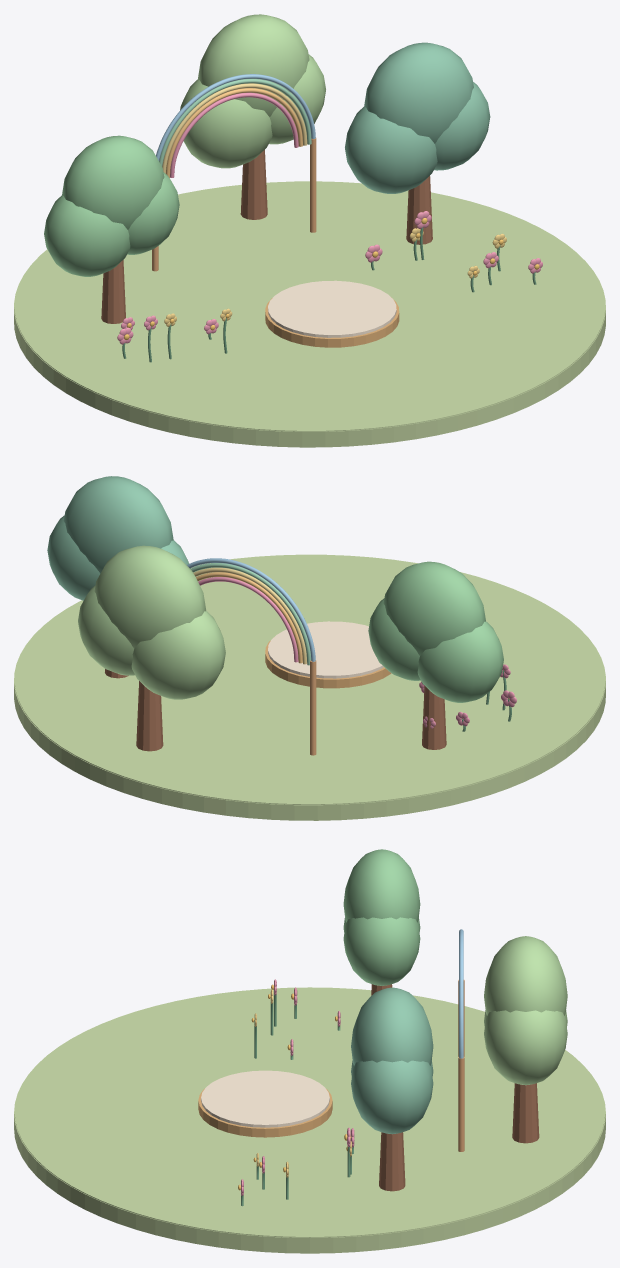
The model's file is jardim.glb.
3 renders of one model, top to bottom at view 1: azimuth 30°, elevation 25°; view 2: azimuth 150°, elevation 25°; view 3: azimuth 270°, elevation 25°, orthographic.
Parts seen in each view (by area): view 1: Diorama piping.001, Diorama base.001, Leafy canopy.005, Leafy canopy.002, Leafy canopy.008, Look pedestal.001, Leafy canopy.003, Leafy canopy, Leafy canopy.006, Leafy canopy.004, Leafy canopy.001, Leafy canopy.007 (+10 smaller); view 2: Diorama piping.001, Diorama base.001, Leafy canopy.008, Leafy canopy.005, Leafy canopy.002, Leafy canopy.006, Leafy canopy, Look pedestal.001, Leafy canopy.007, Leafy canopy.004, Leafy canopy.001, Tree trunk.002 (+8 smaller); view 3: Diorama piping.001, Diorama base.001, Look pedestal.001, Leafy canopy.008, Leafy canopy.007, Leafy canopy.005, Leafy canopy.004, Leafy canopy.002, Leafy canopy.001, Look pedestal trim.001, Tree trunk.002, Tree trunk.001 (+2 smaller).
Boxes of the visible parts, x1,y1,x2,y2 form: Diorama piping.001: [14, 181, 605, 431]; Diorama base.001: [14, 268, 605, 447]; Leafy canopy.005: [364, 42, 473, 143]; Leafy canopy.002: [62, 135, 164, 229]; Leafy canopy.008: [198, 14, 309, 117]; Look pedestal.001: [268, 280, 396, 337]; Leafy canopy.003: [345, 106, 437, 193]; Leafy canopy: [44, 195, 130, 276]; Leafy canopy.006: [180, 79, 272, 168]; Leafy canopy.004: [434, 82, 490, 170]; Leafy canopy.001: [127, 172, 179, 254]; Leafy canopy.007: [269, 54, 325, 144]; Diorama piping.001: [14, 554, 605, 804]; Diorama base.001: [14, 635, 605, 820]; Leafy canopy.008: [94, 545, 205, 648]; Leafy canopy.005: [63, 476, 173, 573]; Leafy canopy.002: [383, 561, 485, 655]; Leafy canopy.006: [131, 610, 225, 699]; Leafy canopy: [417, 621, 503, 702]; Look pedestal.001: [268, 621, 383, 678]; Leafy canopy.007: [78, 585, 134, 675]; Leafy canopy.004: [47, 515, 100, 600]; Leafy canopy.001: [368, 598, 420, 680]; Tree trunk.002: [136, 681, 163, 751]; Diorama piping.001: [14, 987, 605, 1237]; Diorama base.001: [14, 1067, 605, 1253]; Look pedestal.001: [201, 1070, 329, 1127]; Leafy canopy.008: [484, 936, 567, 1015]; Leafy canopy.007: [484, 1010, 567, 1085]; Leafy canopy.005: [351, 987, 433, 1065]; Leafy canopy.004: [351, 1060, 433, 1134]; Leafy canopy.002: [343, 849, 420, 922]; Leafy canopy.001: [343, 917, 420, 985]; Look pedestal trim.001: [198, 1088, 332, 1137]; Tree trunk.002: [512, 1083, 539, 1143]; Tree trunk.001: [379, 1132, 405, 1191].
Size of what is drawn, in the model's own units: 8.64 by 3.43 by 8.64.
